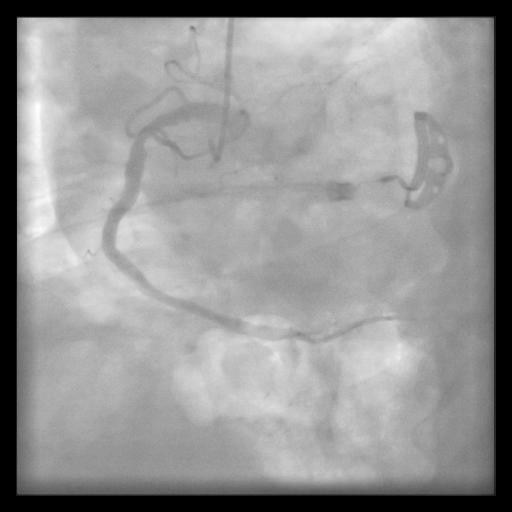Stenosis: (131, 120, 170, 139)
